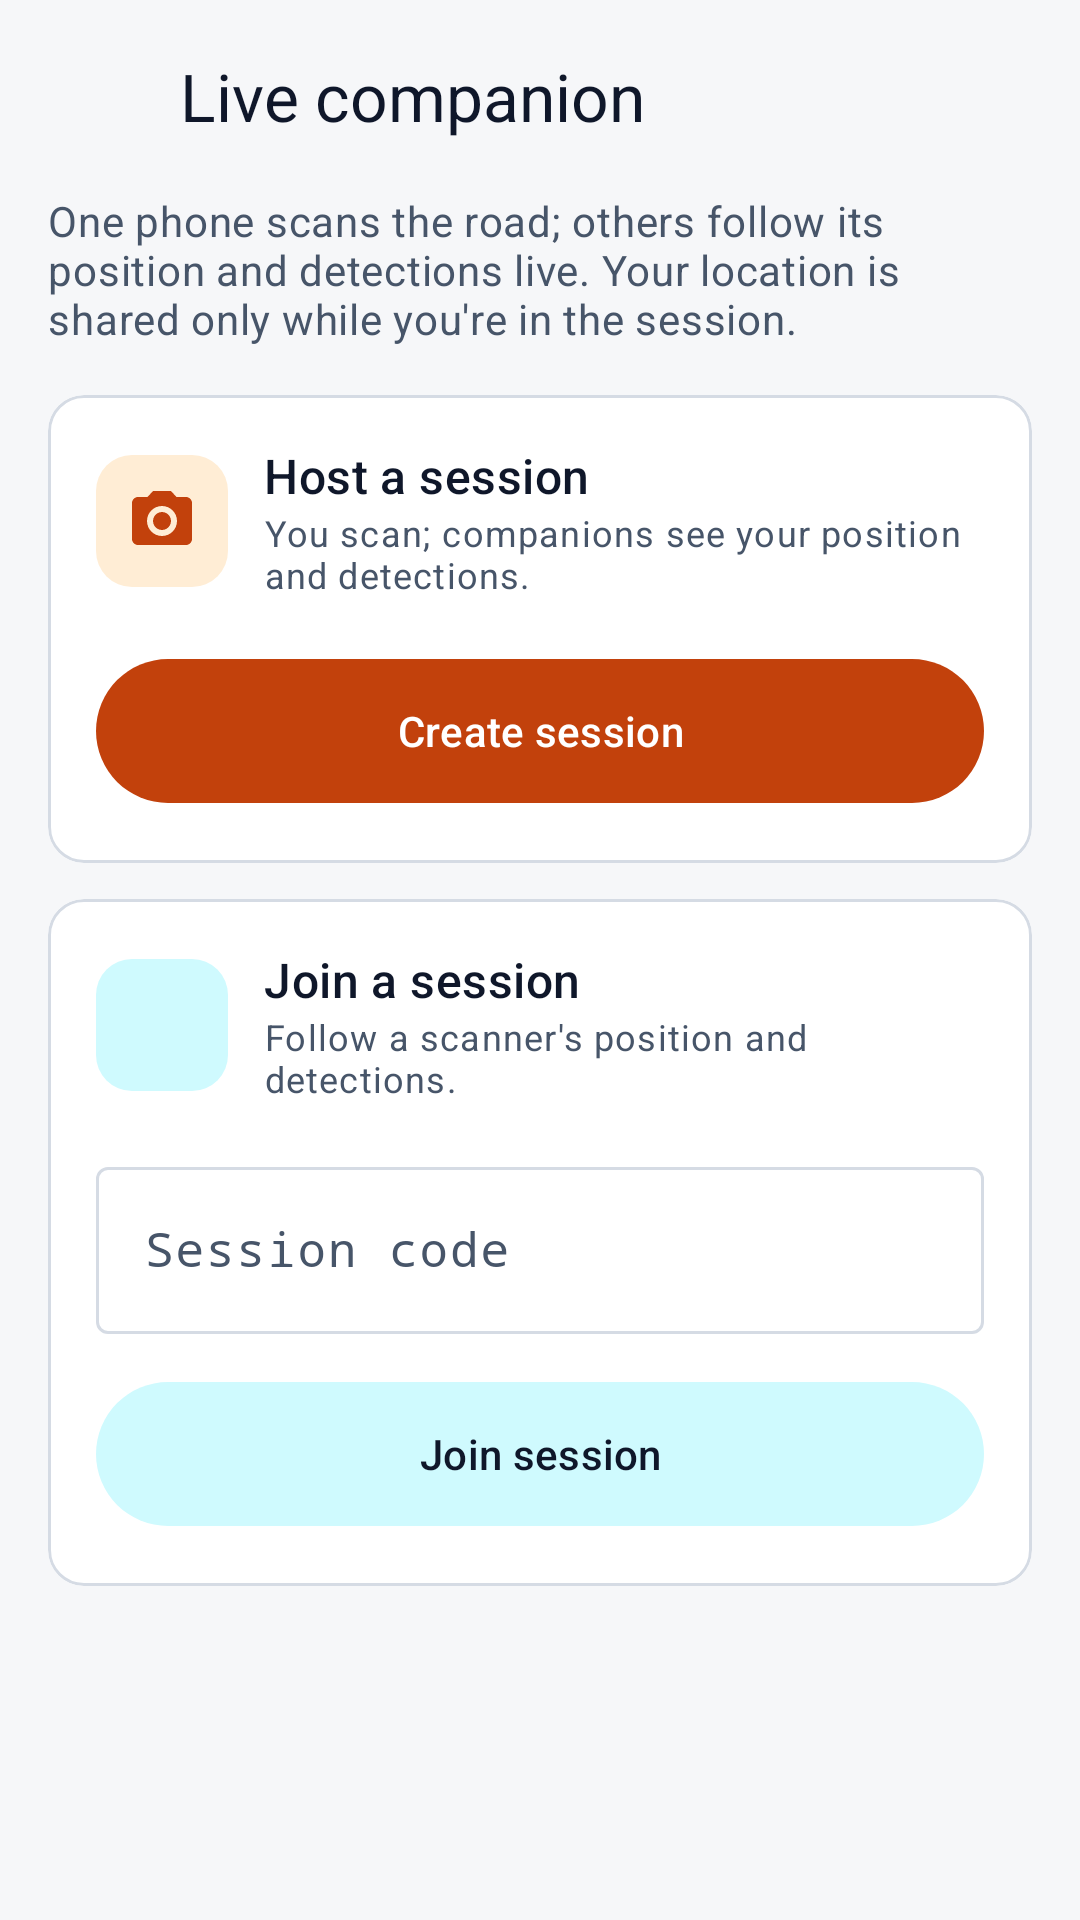

Locate icon controls on the screen. Image size 1080×1920, boxes as region(x1, y1, x2, y2).
camera: region(96, 455, 228, 587)
